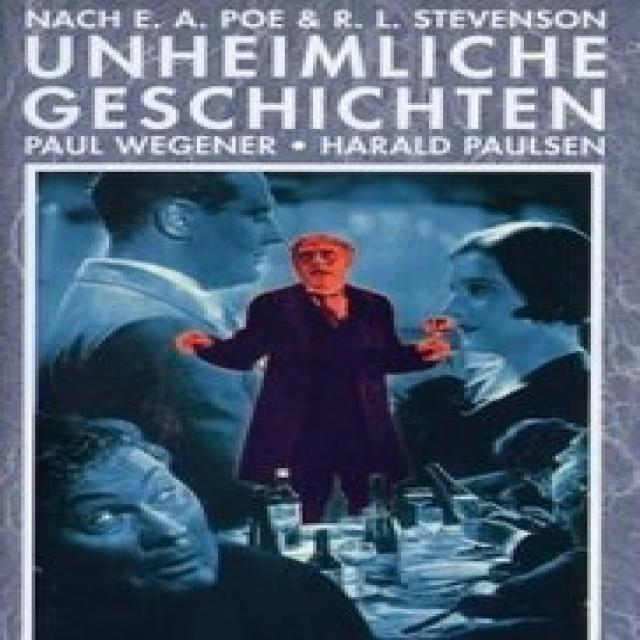movie-judul: (23, 32, 619, 163)
picture: (34, 178, 589, 637)
